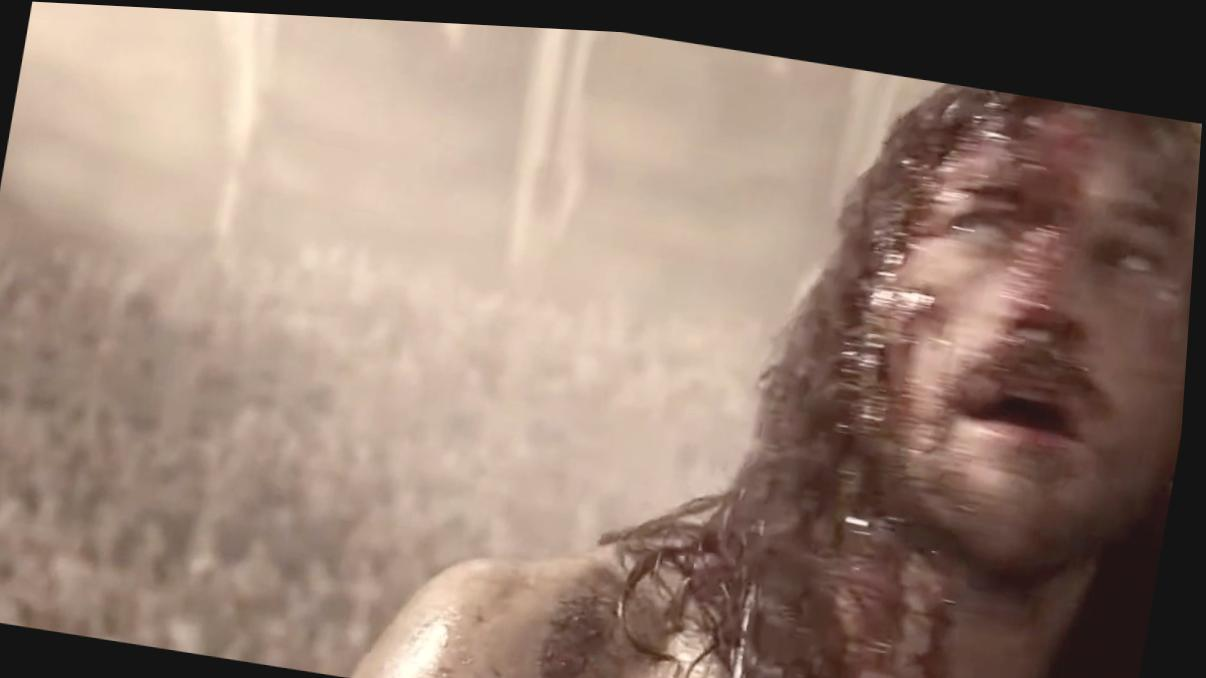Fire: (840, 80, 1117, 433)
